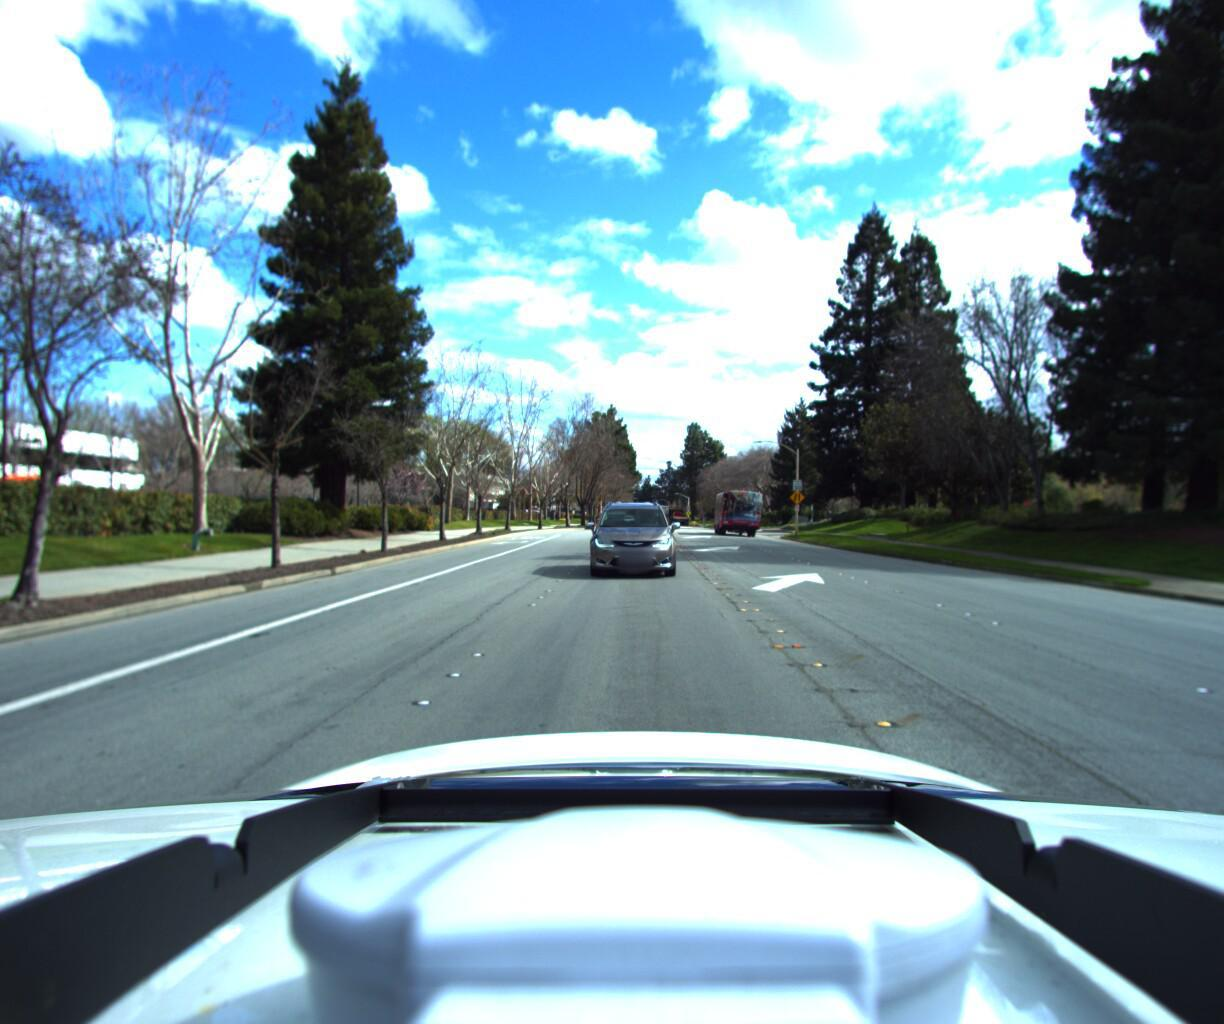bus: (703, 494, 760, 544)
car: (583, 495, 676, 581)
